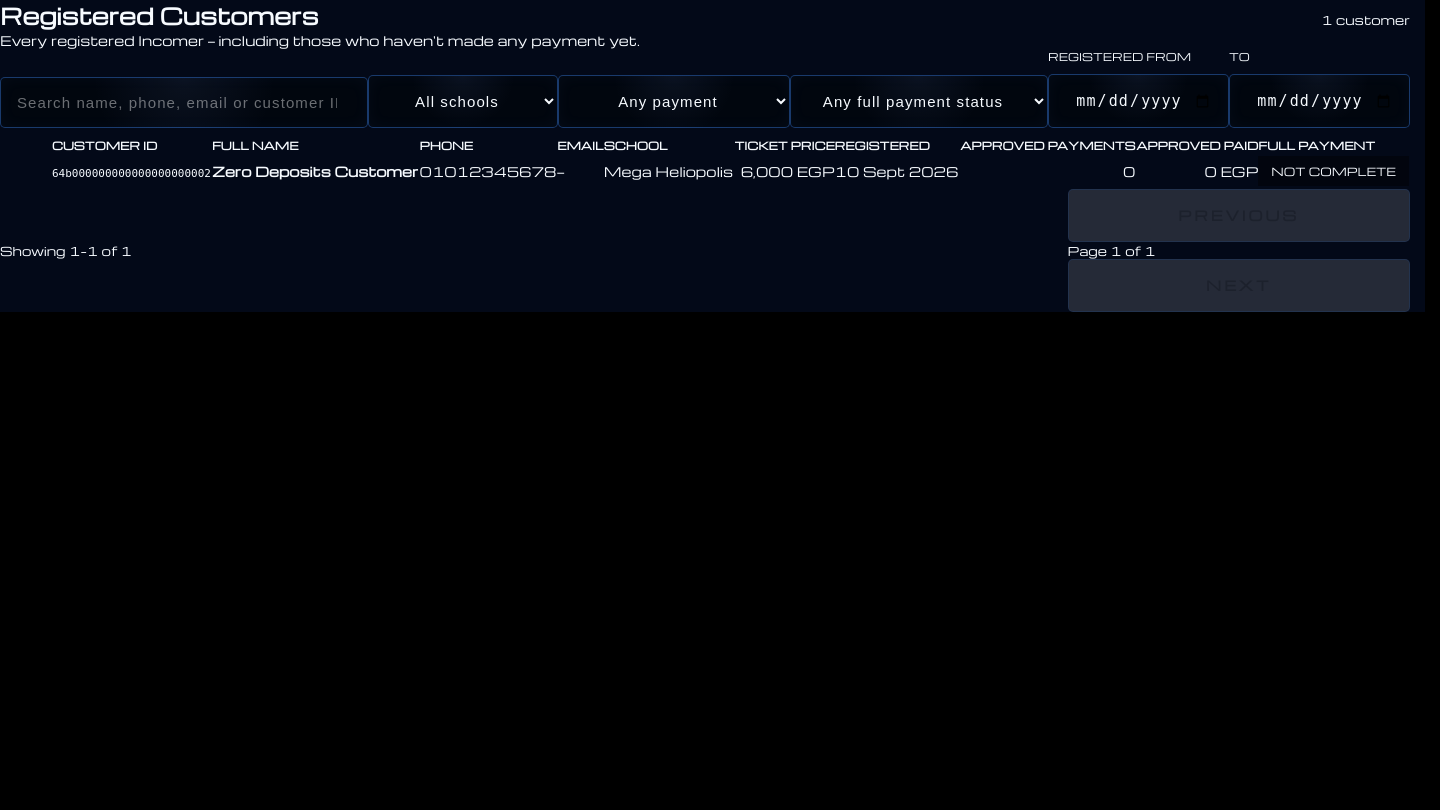
Test: a customer with NO deposits opens normally and shows an empty payment history
This screenshot has width=1440, height=810.
Click the text "Zero Deposits Customer": {"x": 316, "y": 171} 212,153 -> 420,189
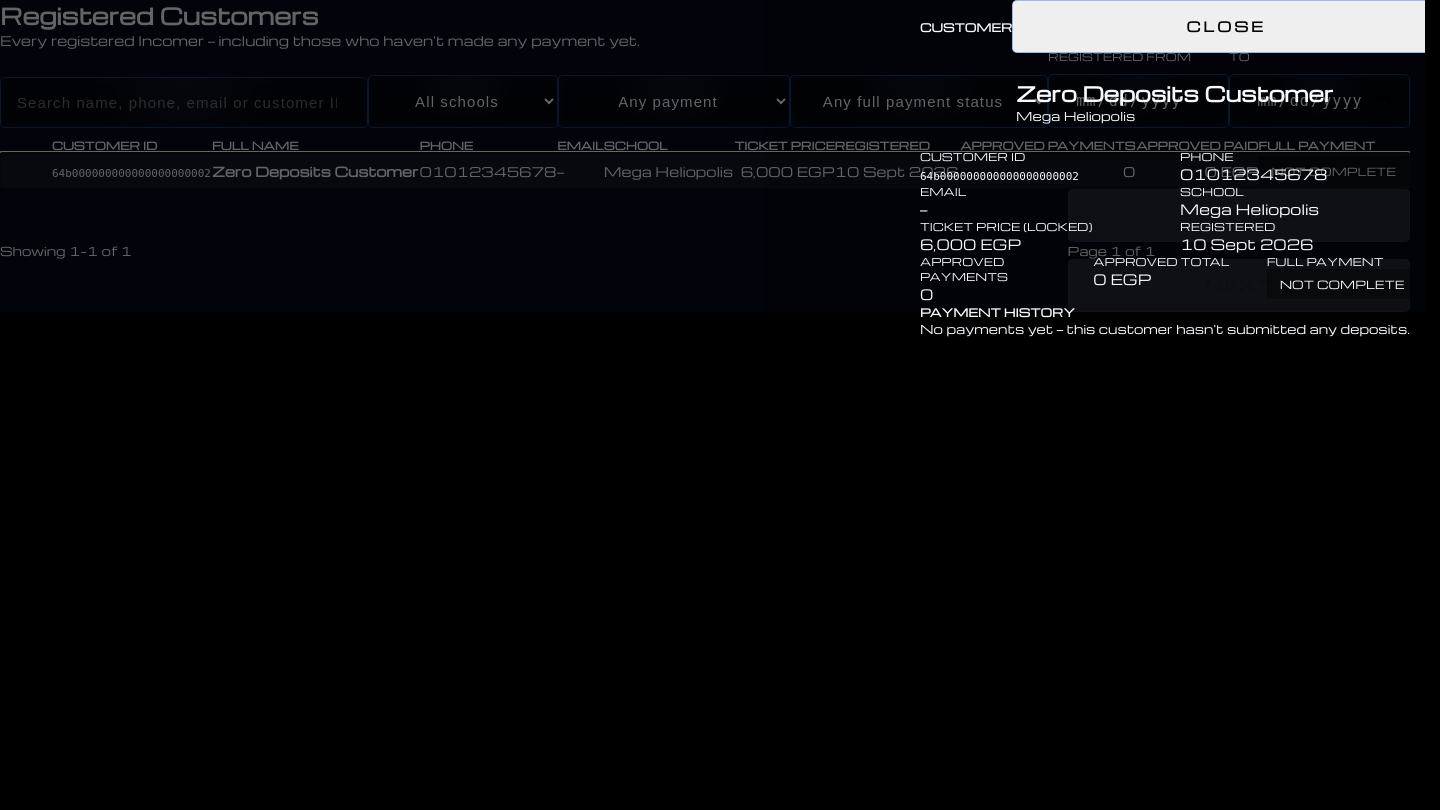
Check: the heading "Zero Deposits Customer" is shown, box 1016,78 -> 1333,106
Check: the text "No payments yet" is shown, box 920,320 -> 1410,337
Check: the text "0 EGP" is shown, box 1093,269 -> 1151,289
